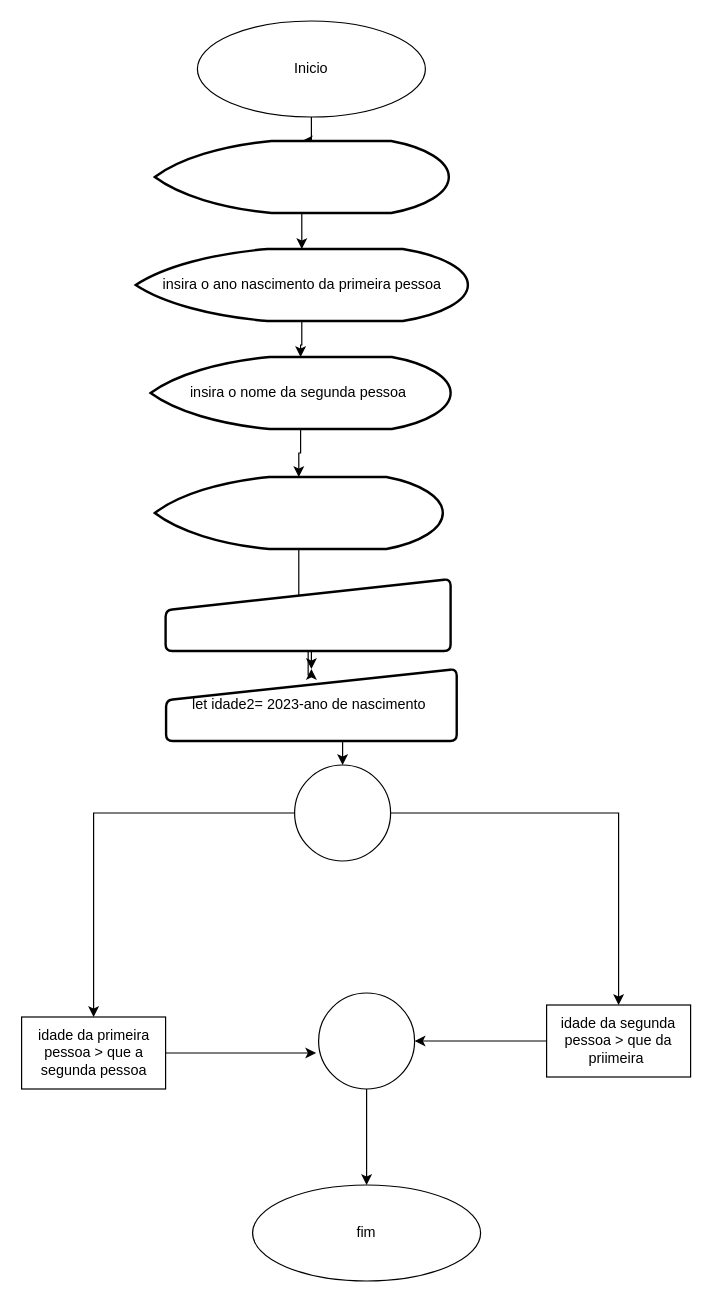
Some shapes in this 712 by 1302 pixel diagram are drawn without their labels. The shapes that lost their labels are listed below. From the top down, each one's box as (x1, y1, x2, y2) in pixels, then its label:
(153, 139, 449, 214): insira o nome da primeira pessoa
(153, 475, 443, 550): insira a data de nascimento da segunda pessoa
(164, 577, 451, 652): let idade= 2023-ano de nascimento
